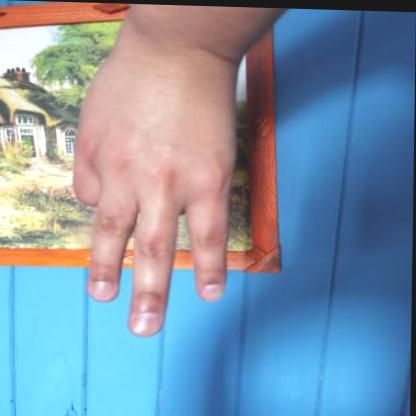M: (41, 37, 272, 345)
